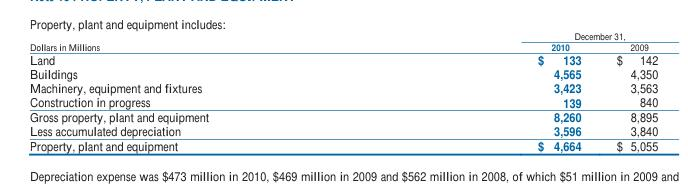table: (28, 29, 657, 153)
table column: (28, 29, 372, 153), (372, 29, 598, 153), (598, 29, 657, 153)
table column header: (28, 29, 657, 52)
table row: (28, 137, 657, 153), (28, 94, 657, 109), (28, 52, 657, 66), (28, 66, 657, 80), (28, 80, 657, 94), (28, 109, 657, 123), (28, 123, 657, 137), (28, 40, 657, 52), (28, 29, 657, 40)
table spanning cell: (28, 29, 372, 52), (372, 29, 657, 40)
